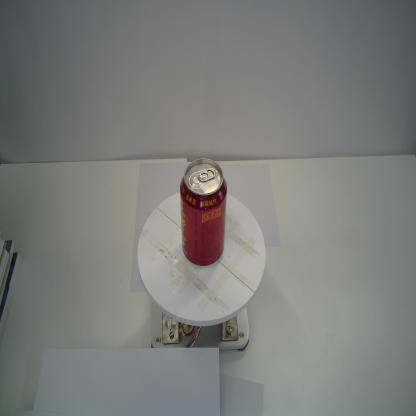Drink: (178, 157, 228, 267)
